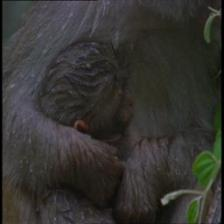monkey: (37, 38, 141, 152)
